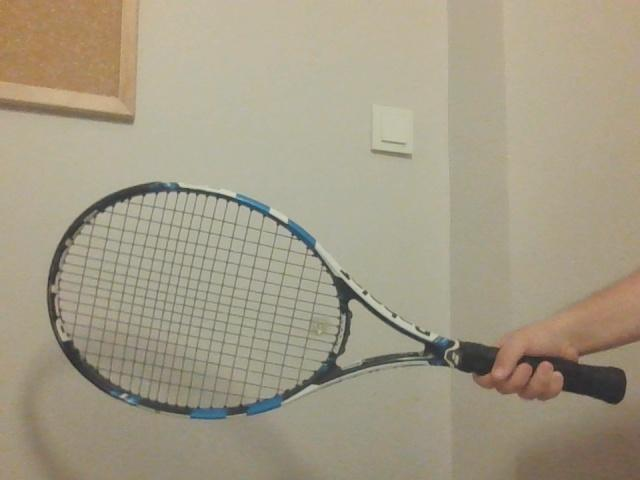Tennis-Racket: (46, 184, 627, 422)
